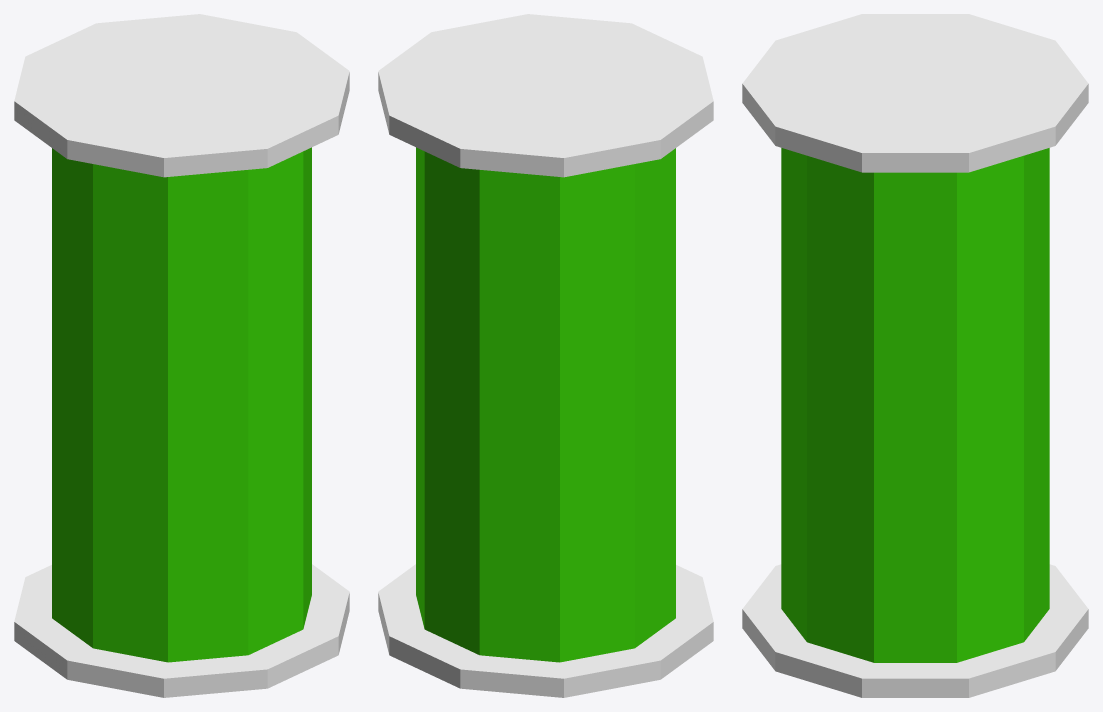
File: tank.glb
The picture shows the model from 3 angles, left to right: view 1: azimuth 30°, elevation 25°; view 2: azimuth 150°, elevation 25°; view 3: azimuth 270°, elevation 25°; orthographic projection.
Parts seen in each view (by area): view 1: tank; view 2: tank; view 3: tank.
Boxes of the visible parts, x1,y1,x2,y2 form: tank: (14,14,349,697); tank: (378,14,713,697); tank: (742,14,1088,697).
Size of the model in its own units: 4.07 by 7.44 by 4.28.
